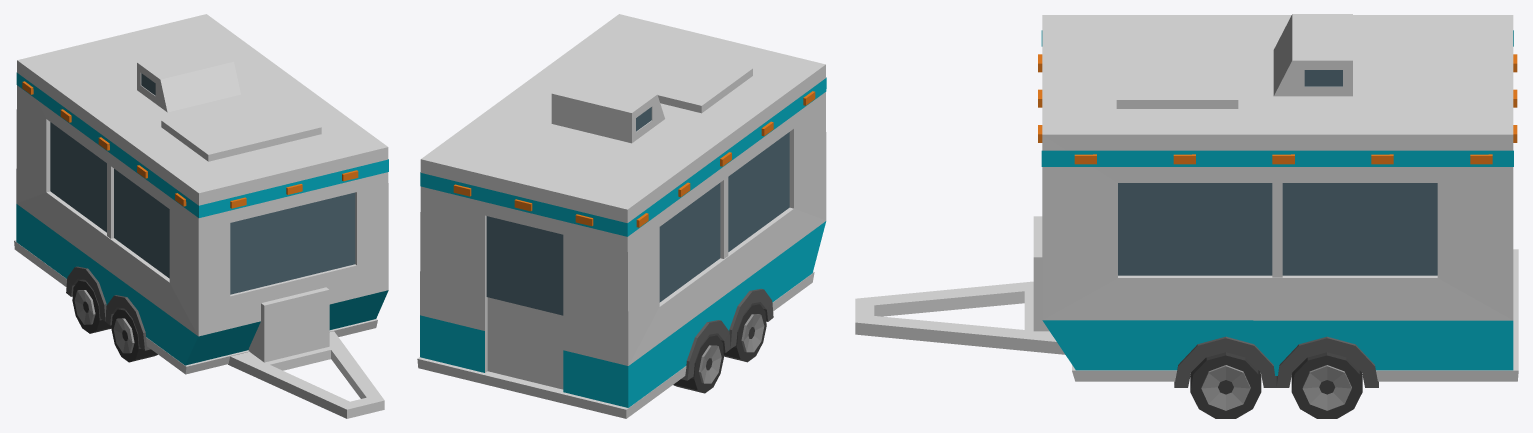
File: trailer_004.glb
The picture shows the model from 3 angles, left to right: view 1: azimuth 30°, elevation 25°; view 2: azimuth 150°, elevation 25°; view 3: azimuth 270°, elevation 25°; orthographic projection. The views are drawn at different scales.
Parts seen in each view (by area): view 1: trailer_004; view 2: trailer_004; view 3: trailer_004.
Part boxes in pixels (<box>): trailer_004: <box>14,14,388,418</box>; trailer_004: <box>417,14,826,418</box>; trailer_004: <box>855,14,1518,418</box>.
Bounding box in the file's own units: 2.01 × 2.38 × 4.47.
Materials: 1 (1 with a texture image).
